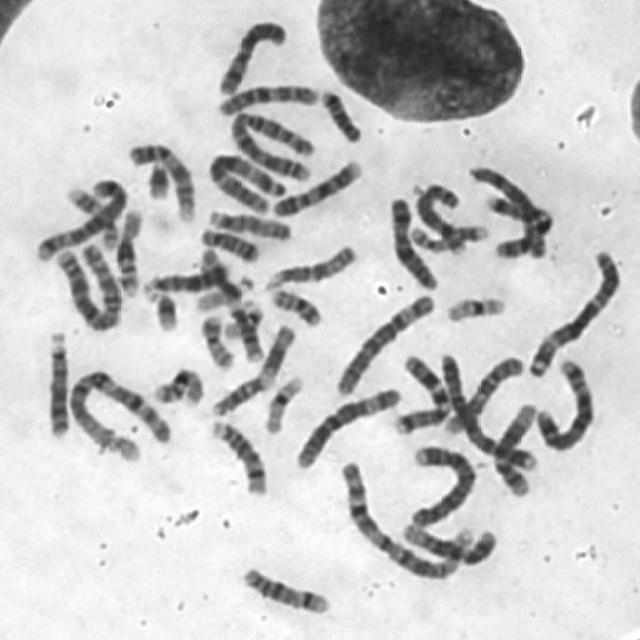A1: (335, 453, 480, 583), (63, 363, 174, 462)
A2: (224, 105, 318, 183), (49, 237, 124, 333)
A3: (522, 244, 625, 379), (203, 147, 291, 216)
B4: (434, 347, 538, 473), (405, 439, 479, 529)
B5: (31, 172, 130, 262), (531, 354, 599, 453)
C10: (441, 352, 527, 437), (213, 77, 322, 118)
C11: (206, 317, 300, 418), (196, 243, 267, 364)
C12: (396, 518, 502, 568), (488, 398, 540, 499)
C6: (330, 287, 439, 398), (290, 381, 403, 471)
C7: (476, 190, 554, 263), (388, 348, 452, 436)
C8: (465, 160, 552, 262), (409, 177, 469, 257)
C9: (122, 135, 198, 223), (268, 154, 364, 220)
D13: (140, 256, 232, 297), (40, 324, 72, 439)
D14: (203, 414, 270, 498), (235, 560, 333, 617)
D15: (262, 238, 360, 292), (203, 203, 295, 243)
E16: (110, 202, 147, 298), (148, 362, 208, 408)
E17: (60, 182, 118, 252), (405, 220, 492, 253)
E18: (316, 83, 364, 144), (195, 222, 262, 263)
F19: (261, 369, 307, 436), (441, 290, 509, 324)
F20: (266, 282, 324, 329), (197, 308, 238, 371)
G21: (140, 282, 180, 333), (141, 155, 174, 201)
G22: (190, 270, 256, 313), (217, 295, 266, 341)
X: (212, 13, 291, 97), (385, 191, 442, 293)
